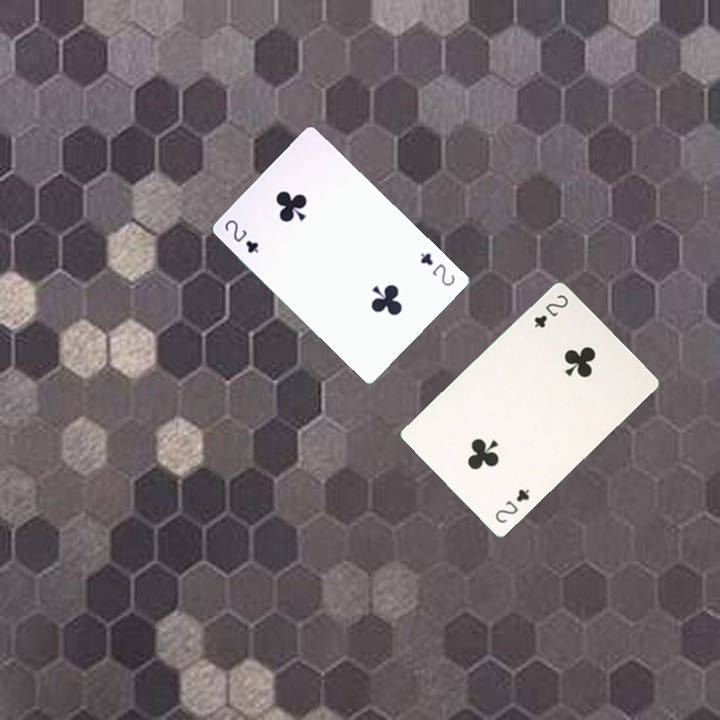2c: (416, 248, 458, 289), (491, 485, 532, 526), (221, 215, 261, 256), (530, 291, 571, 330)
